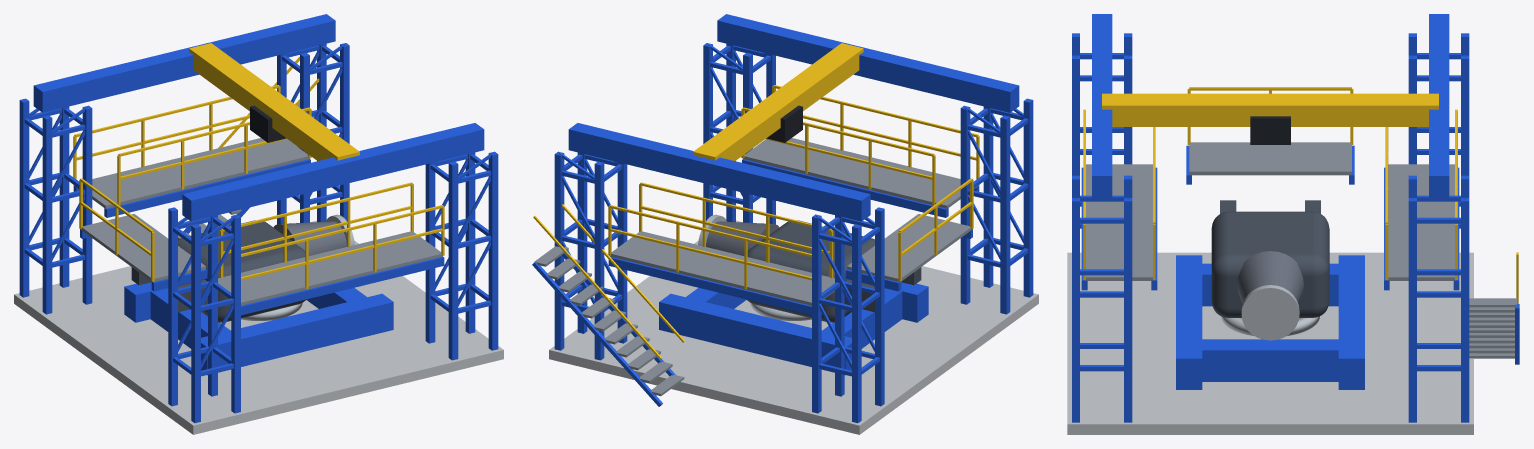
3 renders of one model, left to right at view 1: azimuth 30°, elevation 25°; view 2: azimuth 150°, elevation 25°; view 3: azimuth 270°, elevation 25°, orthographic. The views are drawn at different scales.
Size of the model in its own units: 7 by 4.93 by 7.79.
